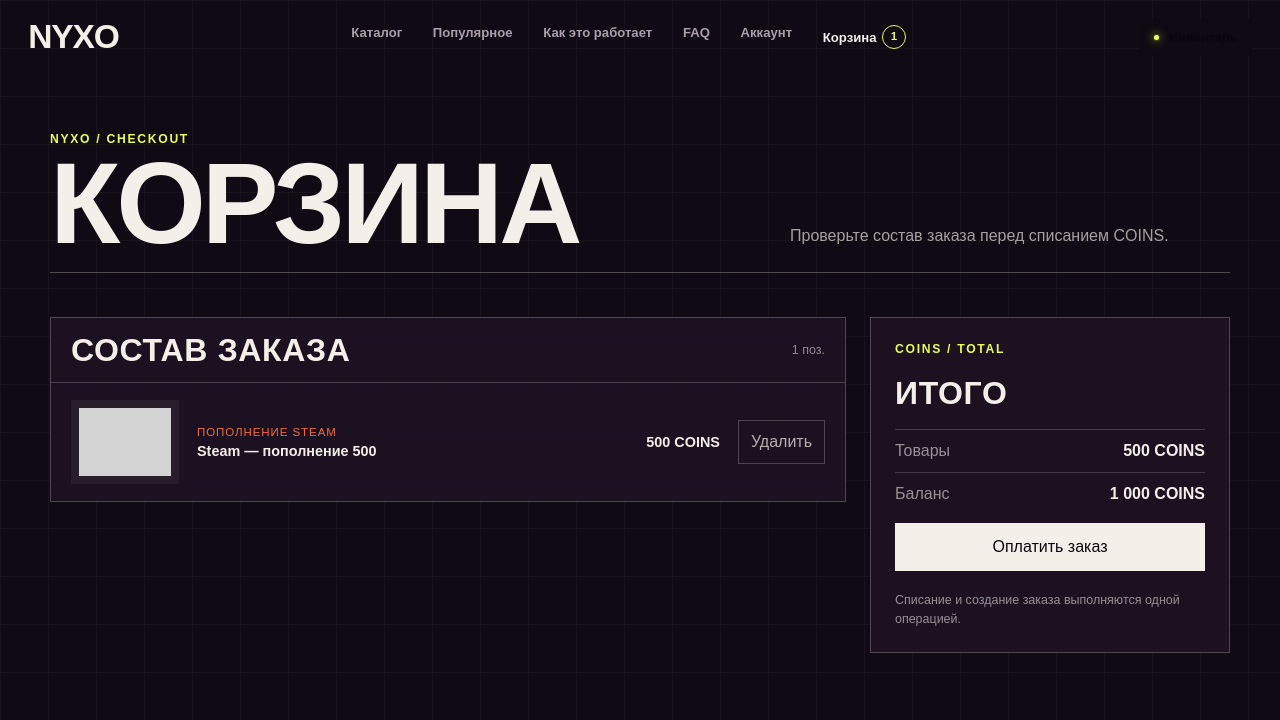
it: CartPage › shows one receipt after a successful persisted purchase
Double-click the button "Оплатить заказ" at (1050, 547), box [895,523,1205,571]
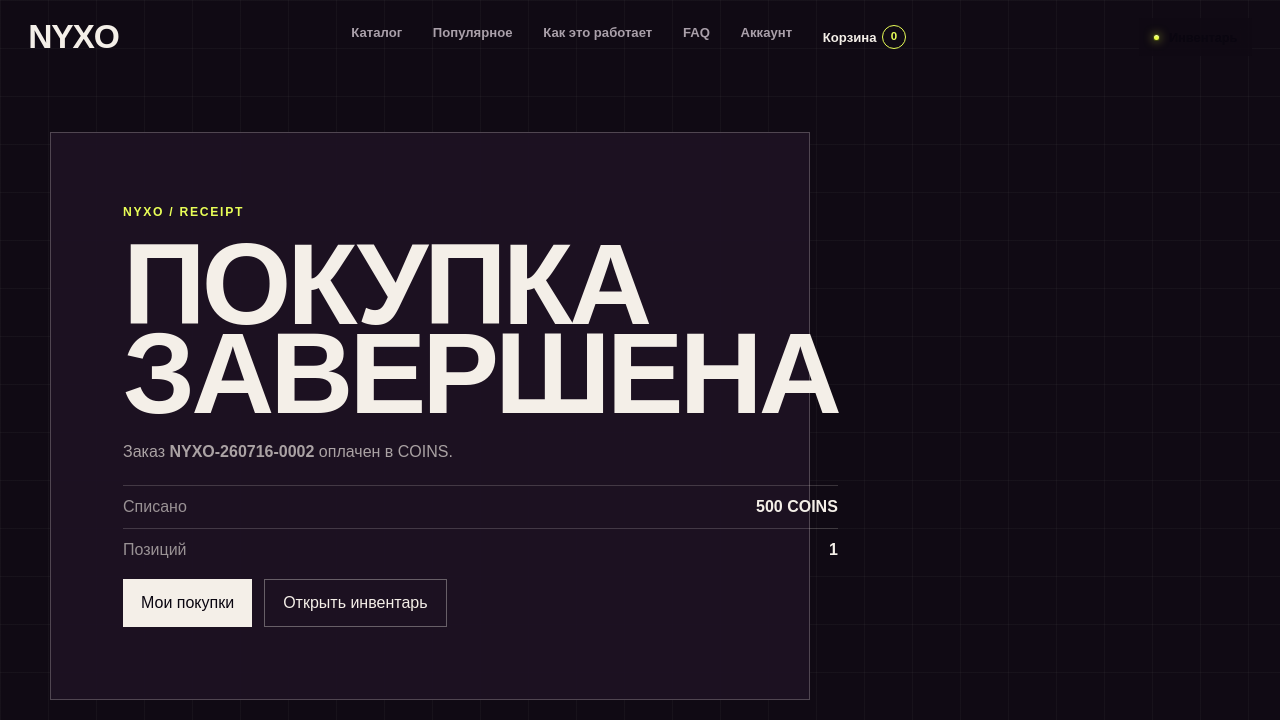
Now the heading "Покупка завершена" is shown, box [123,240,838,419]
Now the text "NYXO-260716-0002" is shown, box [169,443,314,460]
